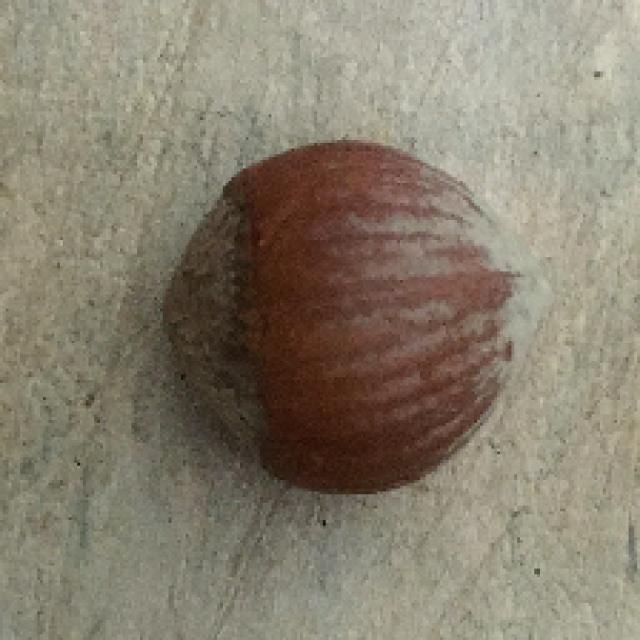qualityHazelnut: (147, 137, 528, 494)
